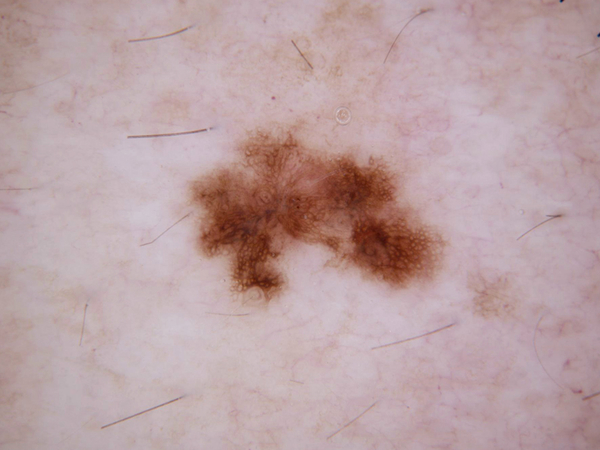Detected Lesion: (182, 118, 445, 310)
